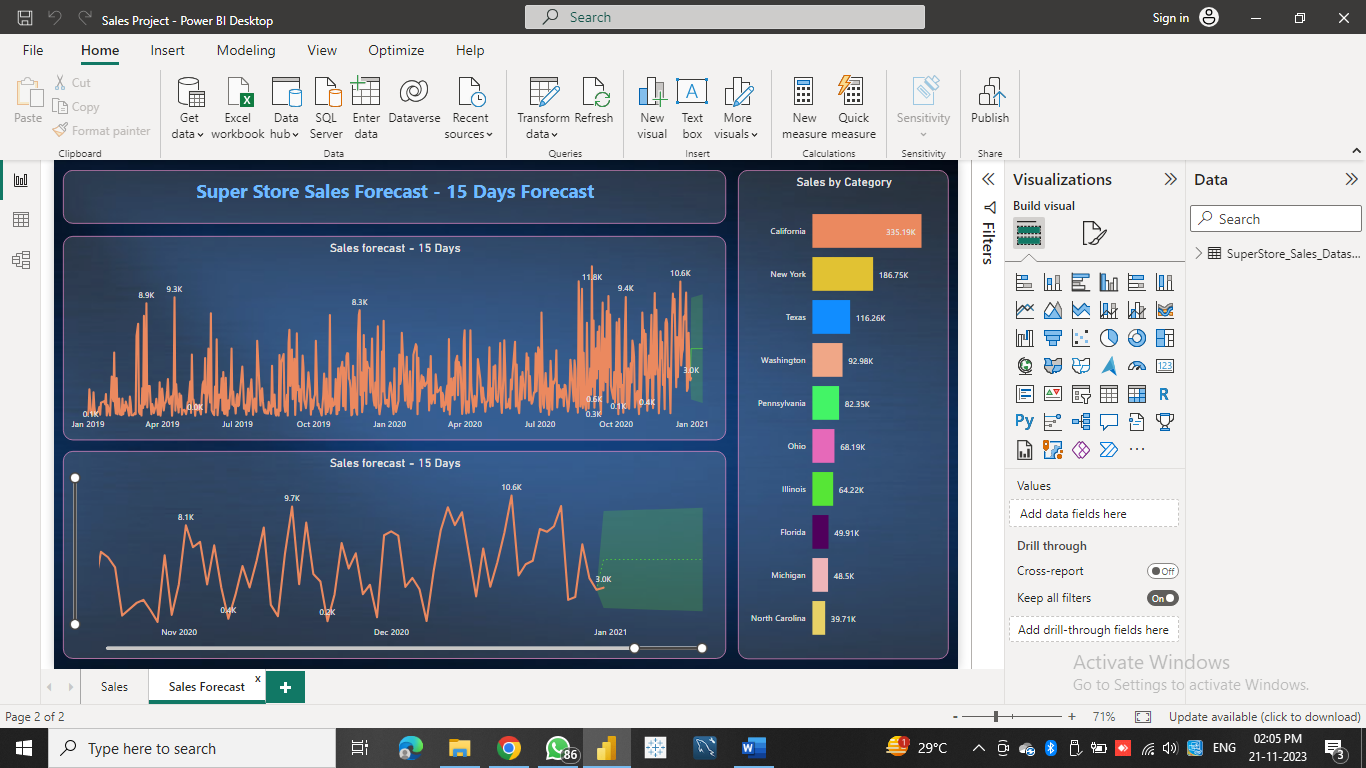

Layout of this report page (visuals, bound fields, positions):
{"tool":"powerbi","page":{"name":"Sales Forecast","canvas":[1280,720],"ordinal":1},"visuals":[{"type":"lineChart","title":"Sales forecast - 15 Days","fields":{"Y":["Sum(SuperStore_Sales_Dataset.Sales)"],"Category":["SuperStore_Sales_Dataset.Order Date"]},"box":[12.7,107.5,937.8,288.6],"z":0},{"type":"lineChart","title":"Sales forecast - 15 Days","fields":{"Y":["Sum(SuperStore_Sales_Dataset.Sales)"],"Category":["SuperStore_Sales_Dataset.Order Date"]},"box":[12.7,411.6,937.8,294.2],"z":1000},{"type":"textbox","box":[12.7,14.1,937.8,76.4],"z":2000},{"type":"barChart","title":"Sales by Category","fields":{"Y":["Sum(SuperStore_Sales_Dataset.Sales)"],"Category":["SuperStore_Sales_Dataset.State"]},"box":[967.5,14.1,298.5,691.7],"z":3000}]}

Visuals, with their boxes on the page's 1280x720 design canvas (x1, y1, x2, y2). These are canvas units, not pixel positions in the 1366x768 screenshot, which may show the page scaled, cropped or inside an application window:
"Sales forecast - 15 Days" lineChart: bbox=[13, 108, 950, 396]
"Sales forecast - 15 Days" lineChart: bbox=[13, 412, 950, 706]
textbox: bbox=[13, 14, 950, 90]
"Sales by Category" barChart: bbox=[968, 14, 1266, 706]
